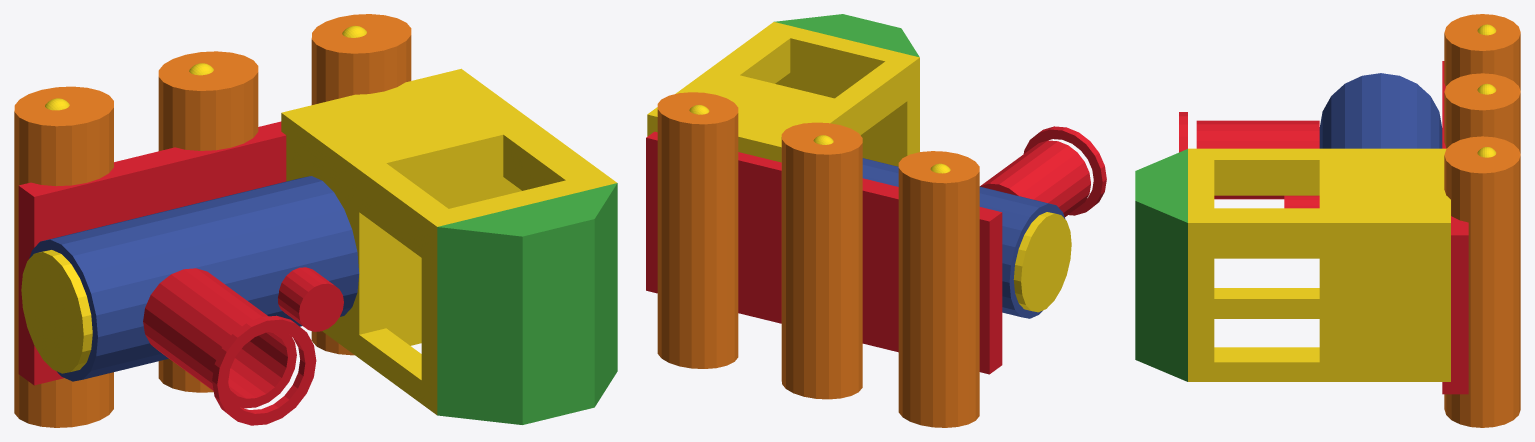
Rendered from tinker.obj.
The picture shows the model from 3 angles, left to right: view 1: azimuth 30°, elevation 25°; view 2: azimuth 150°, elevation 25°; view 3: azimuth 270°, elevation 25°; orthographic projection. The views are drawn at different scales.
Parts seen in each view (by area): view 1: group_0_16768282, group_0_4634441, group_0_15277357, group_0_16089887, group_0_3888547; view 2: group_0_16089887, group_0_16768282, group_0_15277357, group_0_3888547, group_0_4634441; view 3: group_0_16768282, group_0_16089887, group_0_4634441, group_0_15277357, group_0_3888547.
Boxes of the visible parts, x1,y1,x2,y2 form: group_0_16768282: (21,25,616,414); group_0_4634441: (437,183,617,424); group_0_15277357: (18,121,343,425); group_0_16089887: (14,14,411,427); group_0_3888547: (29,176,359,381); group_0_16089887: (657,92,979,427); group_0_16768282: (647,22,1071,312); group_0_15277357: (646,126,1106,374); group_0_3888547: (862,158,1065,318); group_0_4634441: (774,14,919,57); group_0_16768282: (1188,24,1496,381); group_0_16089887: (1444,14,1520,427); group_0_4634441: (1135,149,1187,381); group_0_15277357: (1179,61,1468,394); group_0_3888547: (1319,73,1442,148).
Size of the model in its own units: 50 by 34 by 43.93.
